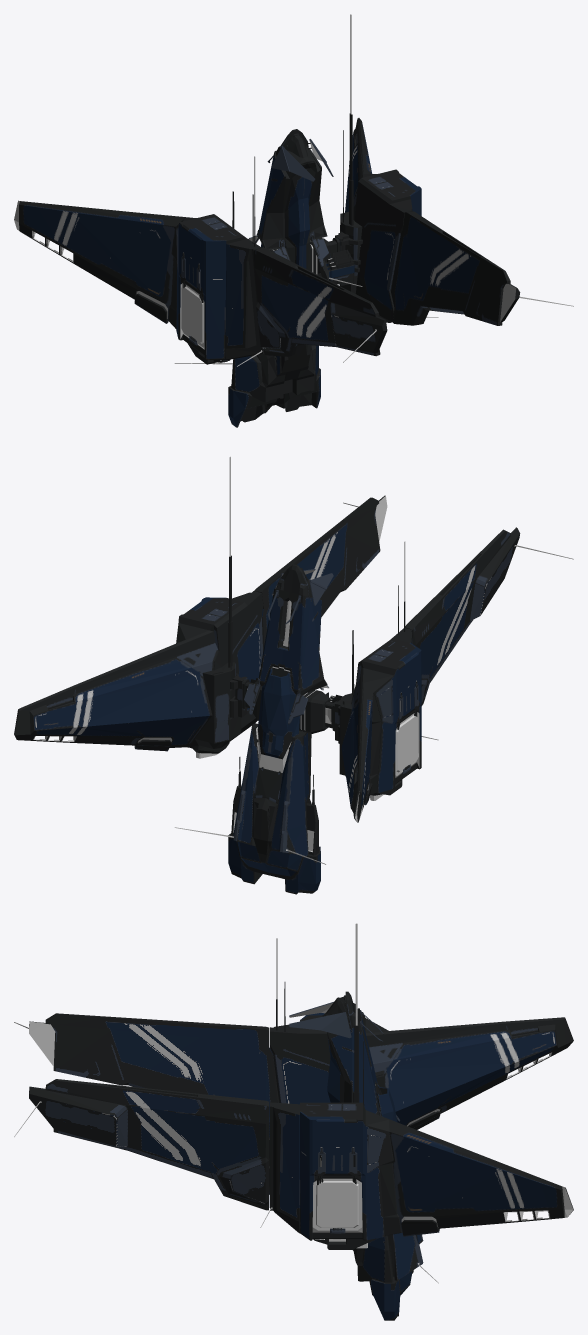
The model's file is Stormbringer.obj.
3 renders of one model, top to bottom at view 1: azimuth 30°, elevation 25°; view 2: azimuth 150°, elevation 25°; view 3: azimuth 270°, elevation 25°, orthographic. The views are drawn at different scales.
Visible parts, largest first — view 1: group_0, group_1; view 2: group_0, group_1; view 3: group_0, group_1.
Part boxes in pixels (left/top/right/bottom): group_0: left=19, top=113, right=520, bottom=427; group_1: left=14, top=14, right=573, bottom=366; group_0: left=14, top=495, right=520, bottom=894; group_1: left=33, top=456, right=573, bottom=864; group_0: left=29, top=982, right=573, bottom=1320; group_1: left=14, top=923, right=573, bottom=1283.
Bounding box in the file's own units: 278 × 311 × 386.
